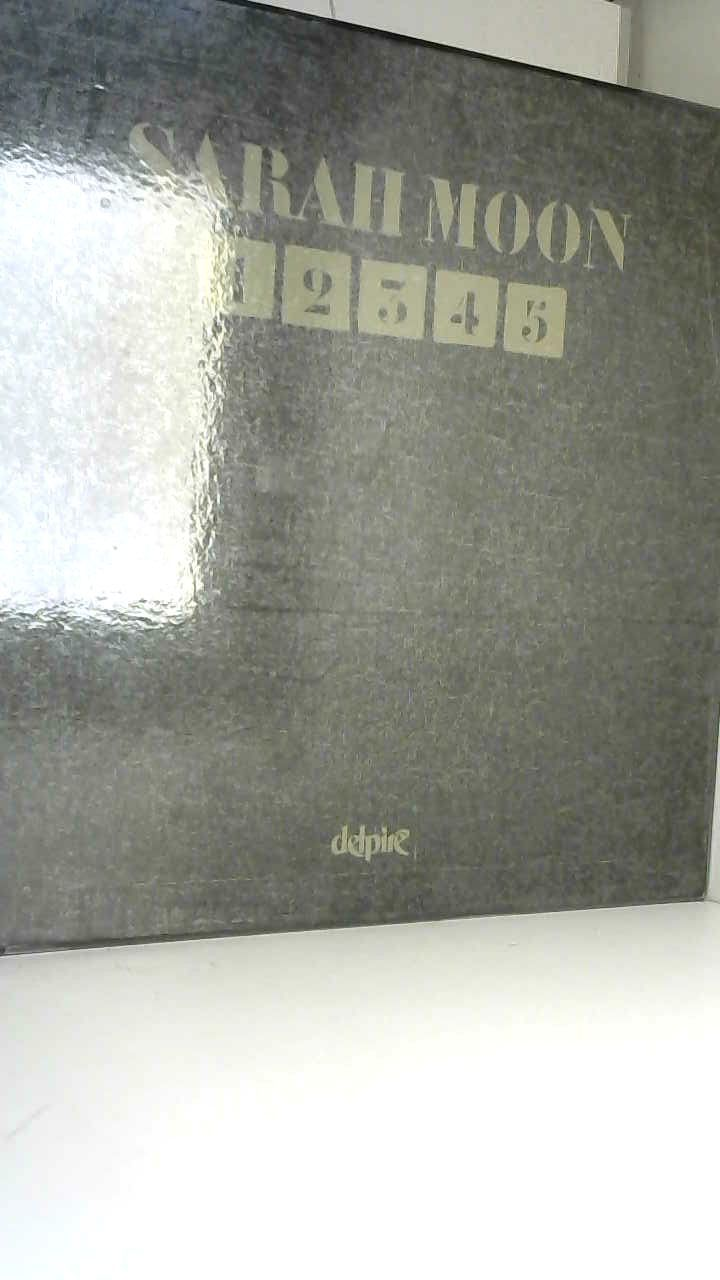book: (0, 0, 720, 966)
